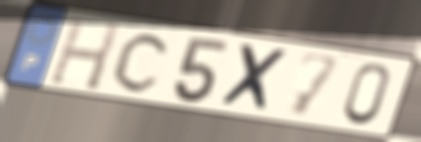0: (342, 61, 394, 127)
5: (171, 34, 233, 105)
7: (289, 50, 342, 121)
C: (109, 30, 174, 95)
H: (45, 15, 124, 93)
X: (216, 41, 292, 116)
